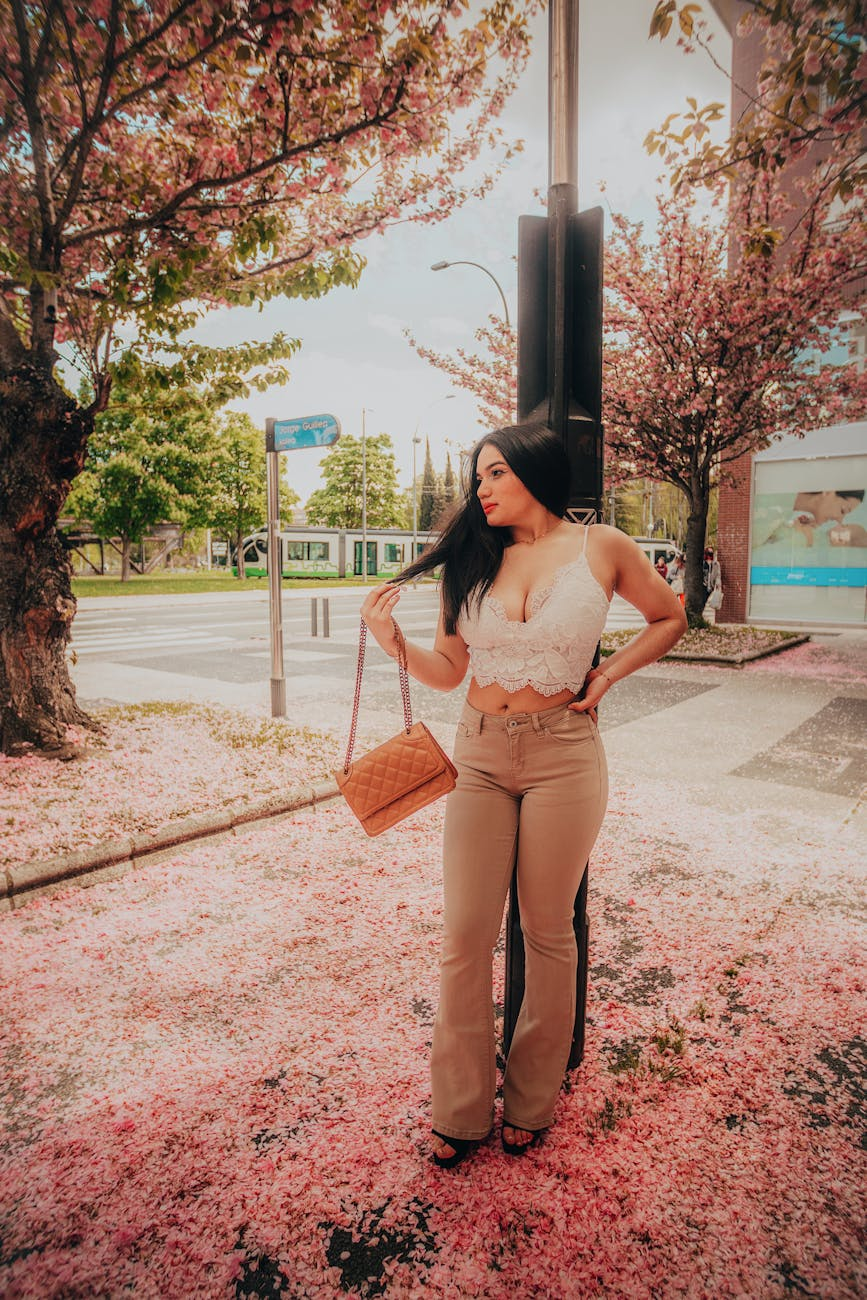crop_top: (439, 541, 619, 699)
